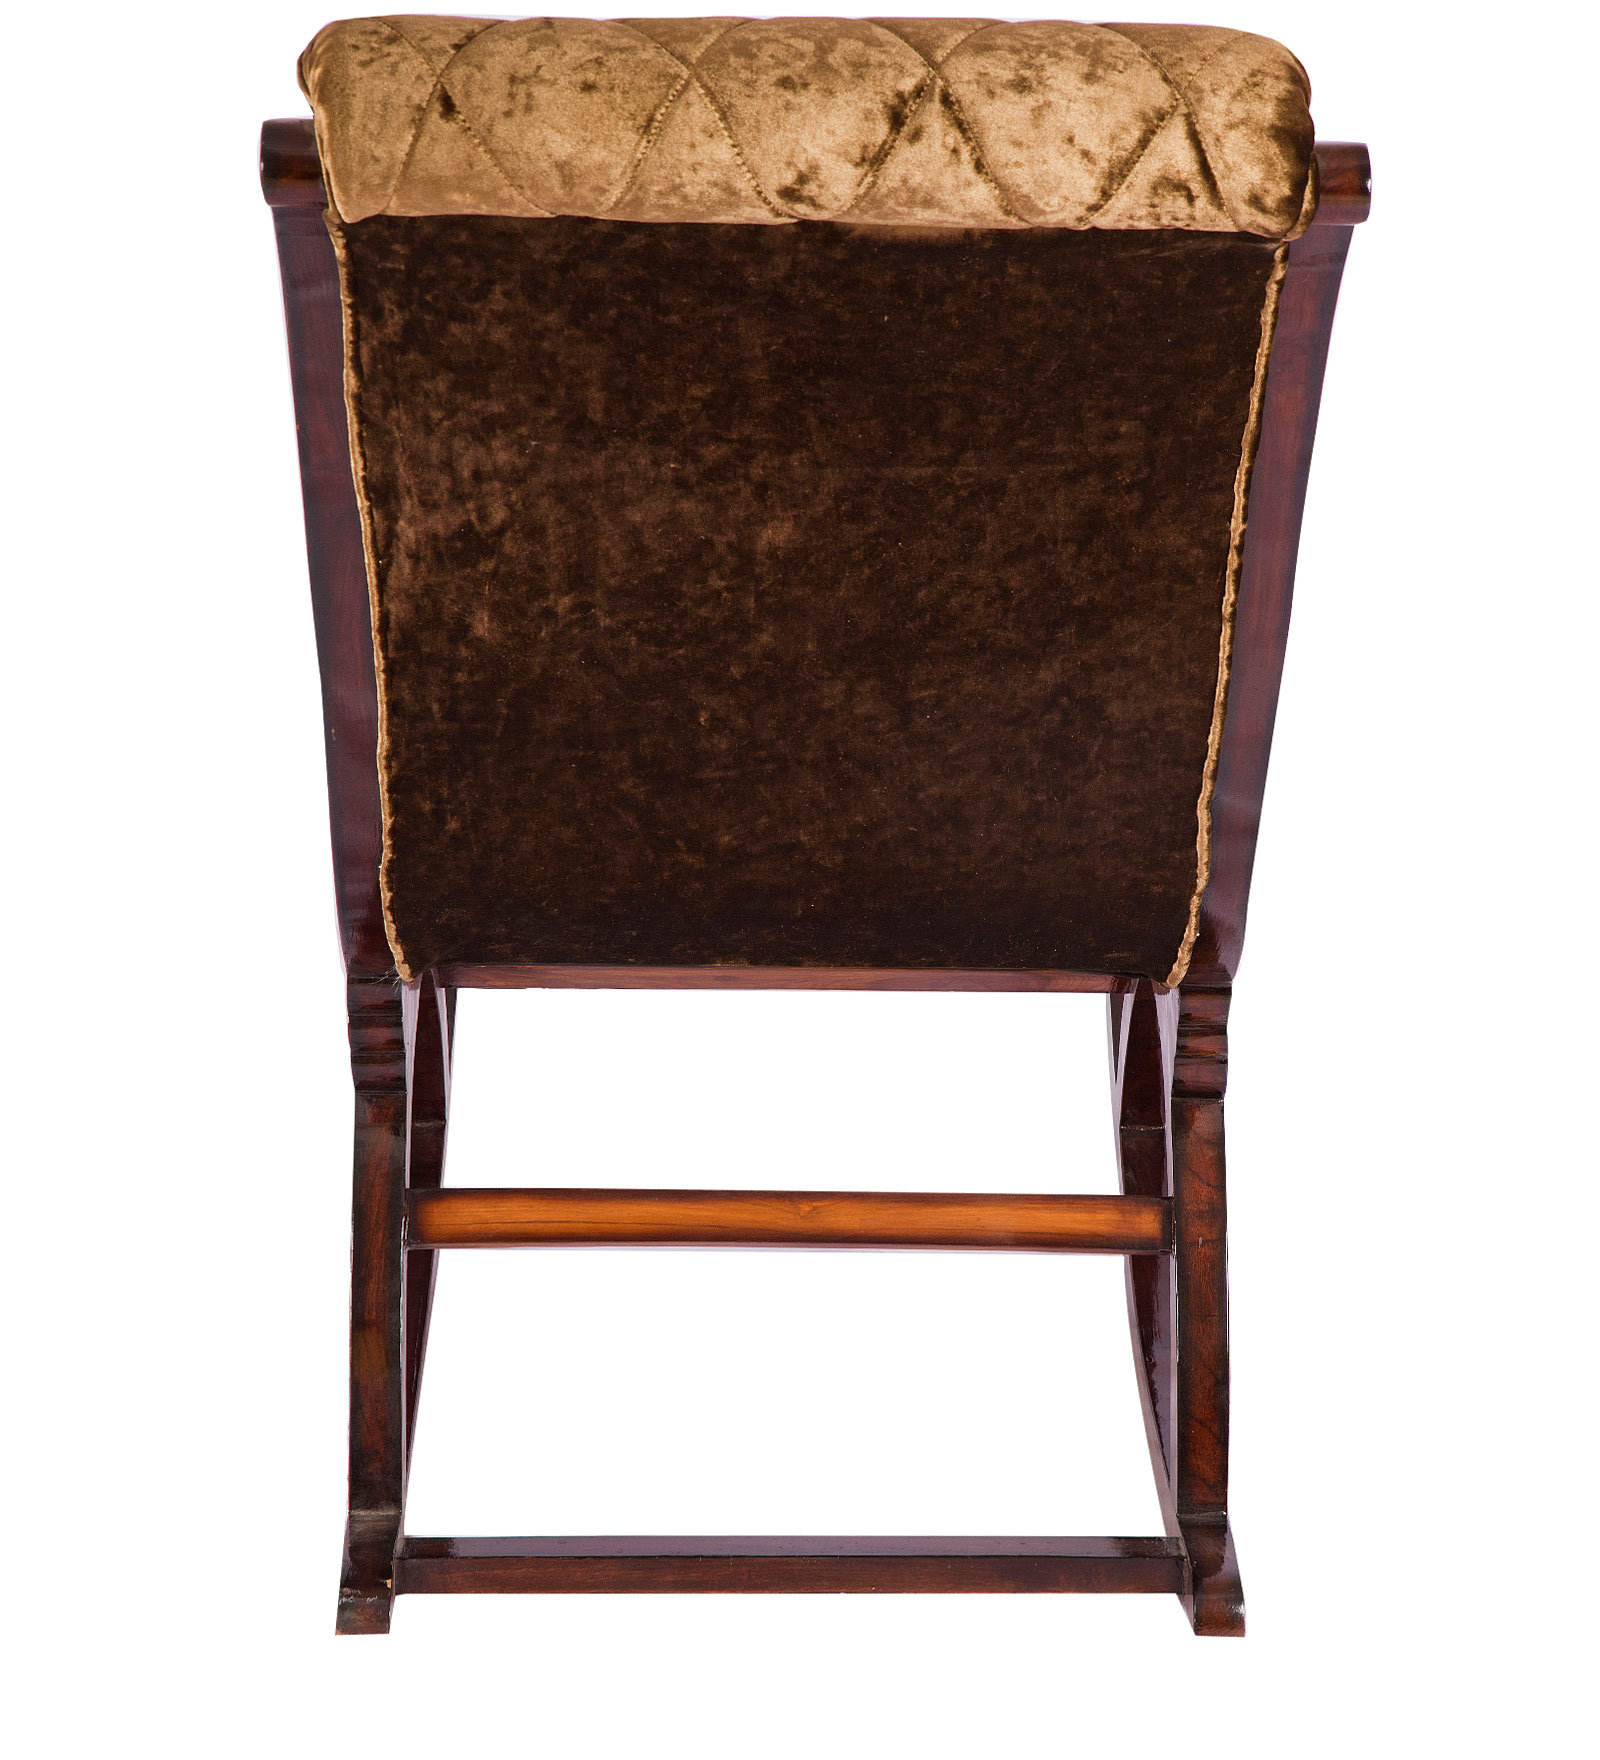Rocking Chair in Dark Brown Colour by Karigar: (193, 9, 1339, 1709)
